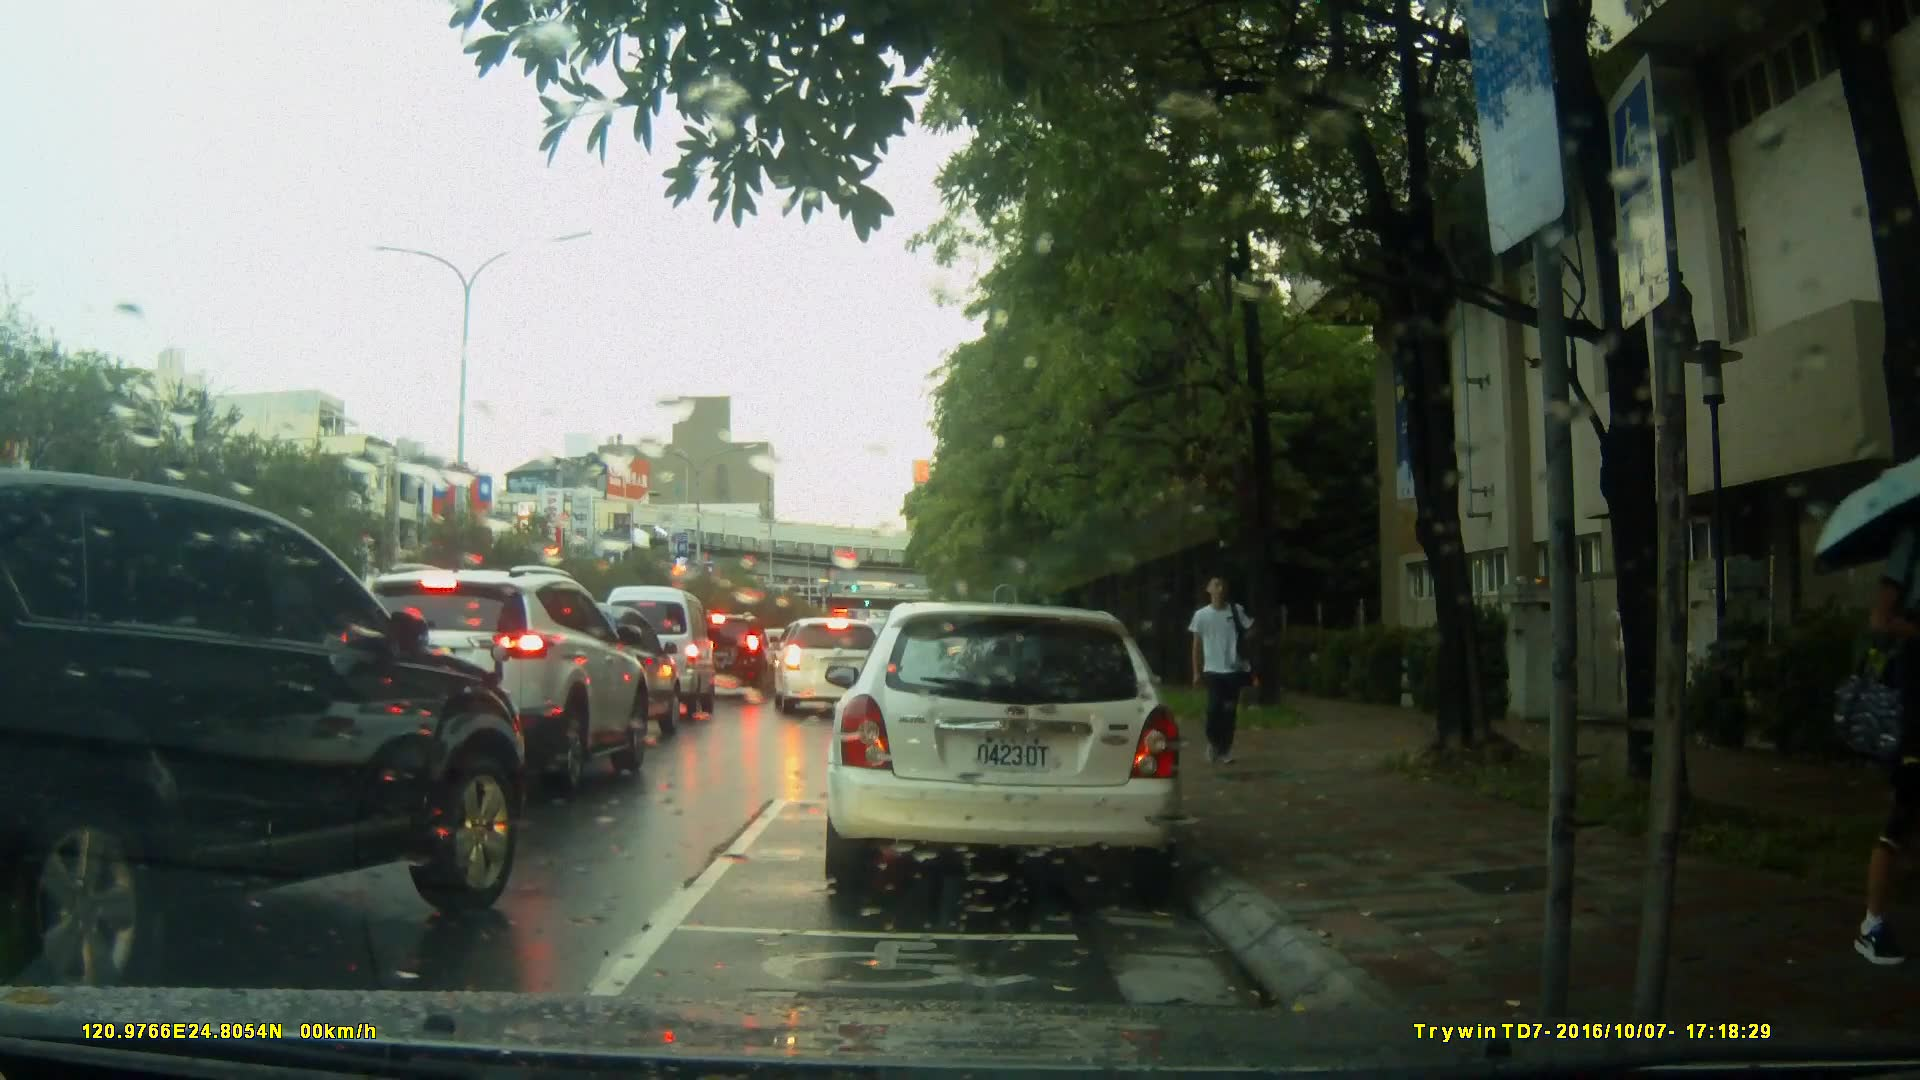pedestrian: (1832, 474, 1909, 969), (1184, 568, 1262, 782)
vehicle: (1, 468, 530, 988), (820, 602, 1188, 898), (335, 563, 658, 791), (526, 603, 689, 738), (596, 585, 721, 722), (772, 617, 892, 716), (684, 612, 771, 696)
